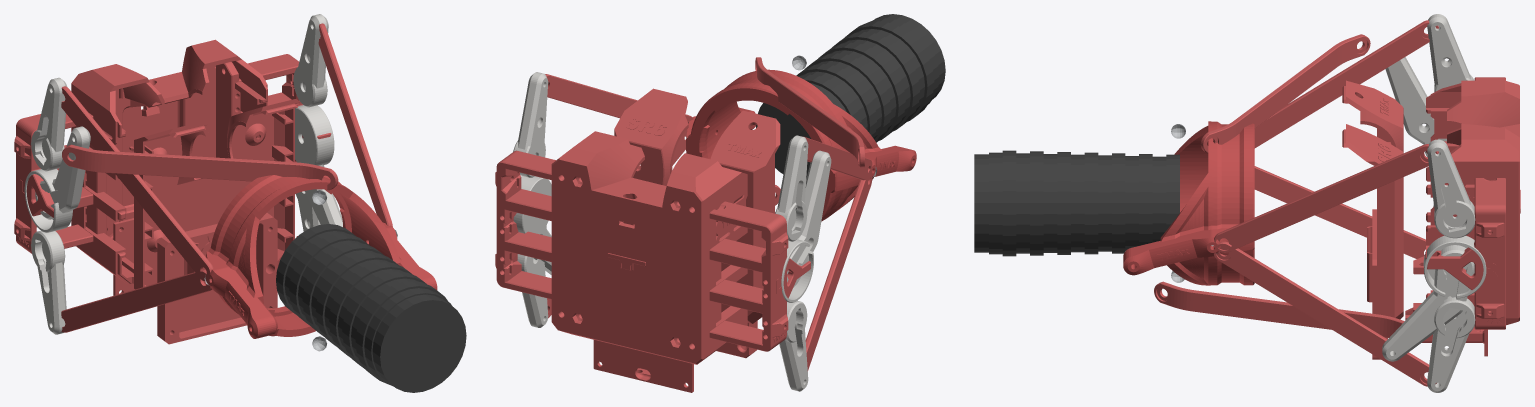
The model's file is ORS6_cover.glb.
The picture shows the model from 3 angles, left to right: view 1: azimuth 30°, elevation 25°; view 2: azimuth 150°, elevation 25°; view 3: azimuth 270°, elevation 25°; orthographic projection.
Parts seen in each view (by area): view 1: Base, Lid, Receiver, sleeve_cap, Shield, Rod_LeftPitch, L_Frame, Rod_LowerLeft, Rod_UpperLeft, R_Frame, L_Pitcher, R_Pitcher (+20 smaller); view 2: Base, Lid, L_Frame, Receiver, R_Frame, Tray, L_Pitcher, Rod_LeftPitch, Rod_UpperLeft, Arm_LowerLeft, Arm_LowerRight, Rod_LowerRight (+19 smaller); view 3: Receiver, Base, Lid, R_Frame, Rod_LowerRight, Rod_UpperRight, Rod_RightPitch, R_Pitcher, Rod_LowerLeft, Rod_LeftPitch, Arm_LowerRight, Arm_UpperRight (+19 smaller).
Boxes of the visible parts, left/top/right/bottom form: Base: left=71, top=39, right=267, bottom=285; Lid: left=134, top=99, right=300, bottom=289; Receiver: left=206, top=175, right=437, bottom=338; sleeve_cap: left=372, top=294, right=466, bottom=392; Shield: left=157, top=213, right=277, bottom=344; Rod_LeftPitch: left=62, top=144, right=338, bottom=190; L_Frame: left=14, top=113, right=106, bottom=253; Rod_LowerLeft: left=61, top=86, right=213, bottom=281; Rod_UpperLeft: left=61, top=269, right=212, bottom=332; R_Frame: left=216, top=54, right=331, bottom=162; L_Pitcher: left=24, top=126, right=90, bottom=232; R_Pitcher: left=295, top=105, right=342, bottom=226; Base: left=551, top=131, right=747, bottom=364; Lid: left=614, top=88, right=780, bottom=323; L_Frame: left=709, top=201, right=810, bottom=351; Receiver: left=686, top=69, right=916, bottom=221; R_Frame: left=495, top=150, right=555, bottom=299; Tray: left=593, top=340, right=693, bottom=392; L_Pitcher: left=781, top=150, right=831, bottom=302; Rod_LeftPitch: left=755, top=57, right=864, bottom=167; Rod_UpperLeft: left=805, top=169, right=872, bottom=371; Arm_LowerLeft: left=775, top=135, right=808, bottom=241; Arm_LowerRight: left=513, top=72, right=548, bottom=177; Rod_LowerRight: left=545, top=74, right=693, bottom=136; Receiver: left=1123, top=121, right=1254, bottom=285; Base: left=1413, top=80, right=1519, bottom=325; Lid: left=1342, top=80, right=1403, bottom=319; R_Frame: left=1425, top=178, right=1505, bottom=329; Rod_LowerRight: left=1214, top=144, right=1438, bottom=252; Rod_UpperRight: left=1214, top=241, right=1436, bottom=386; Rod_RightPitch: left=1154, top=281, right=1404, bottom=337; R_Pitcher: left=1382, top=235, right=1486, bottom=361; Rod_LowerLeft: left=1254, top=20, right=1438, bottom=148; Rod_LeftPitch: left=1200, top=34, right=1370, bottom=152; Arm_LowerRight: left=1427, top=139, right=1475, bottom=238; Arm_UpperRight: left=1427, top=296, right=1475, bottom=392.
Size of the model in its own units: 233 by 190 by 366.
